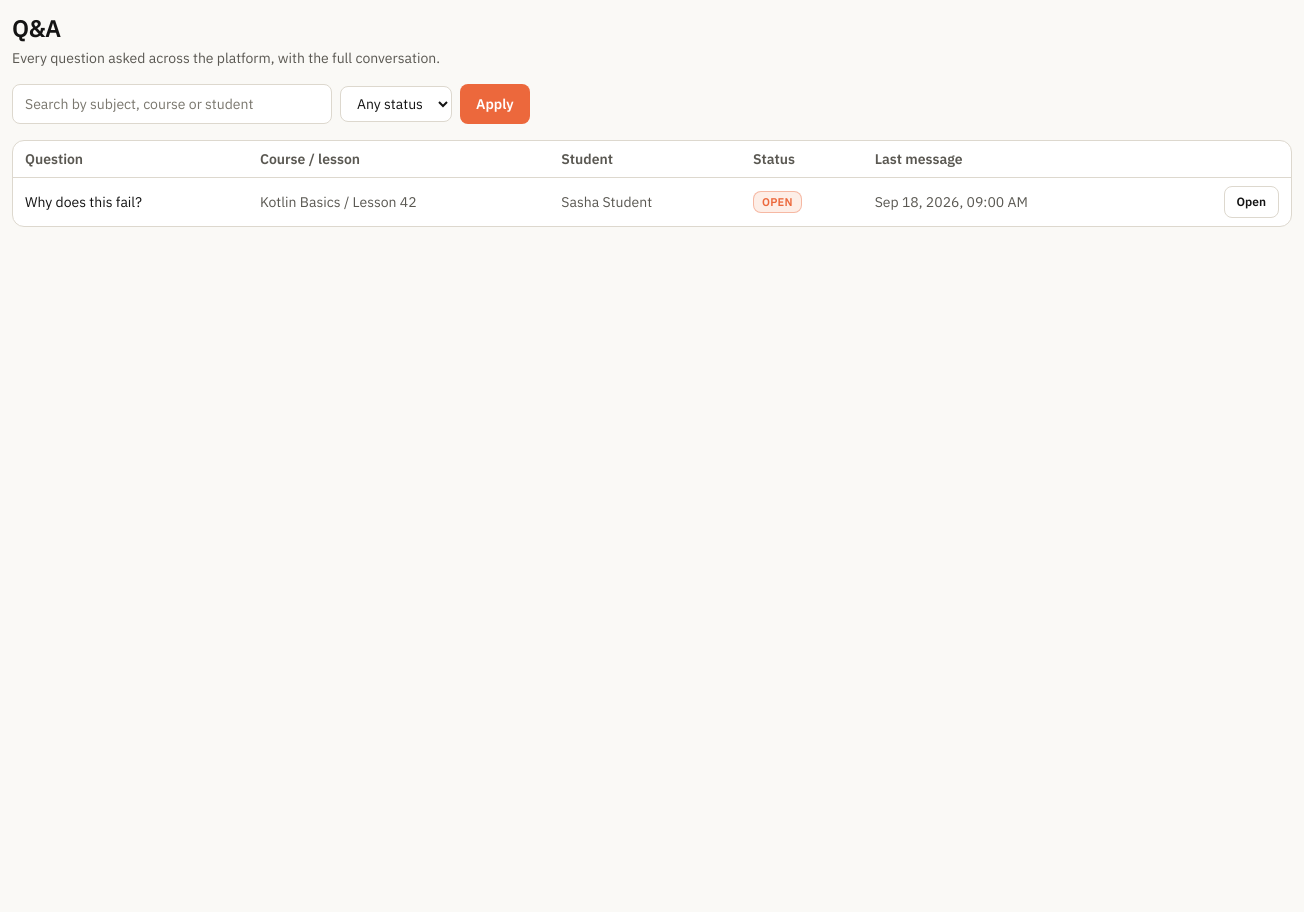
Test: AdminQuestionsView › opens a thread and replies to it as an admin
Click the button "Open": point(1251, 202) [1224,186,1279,218]
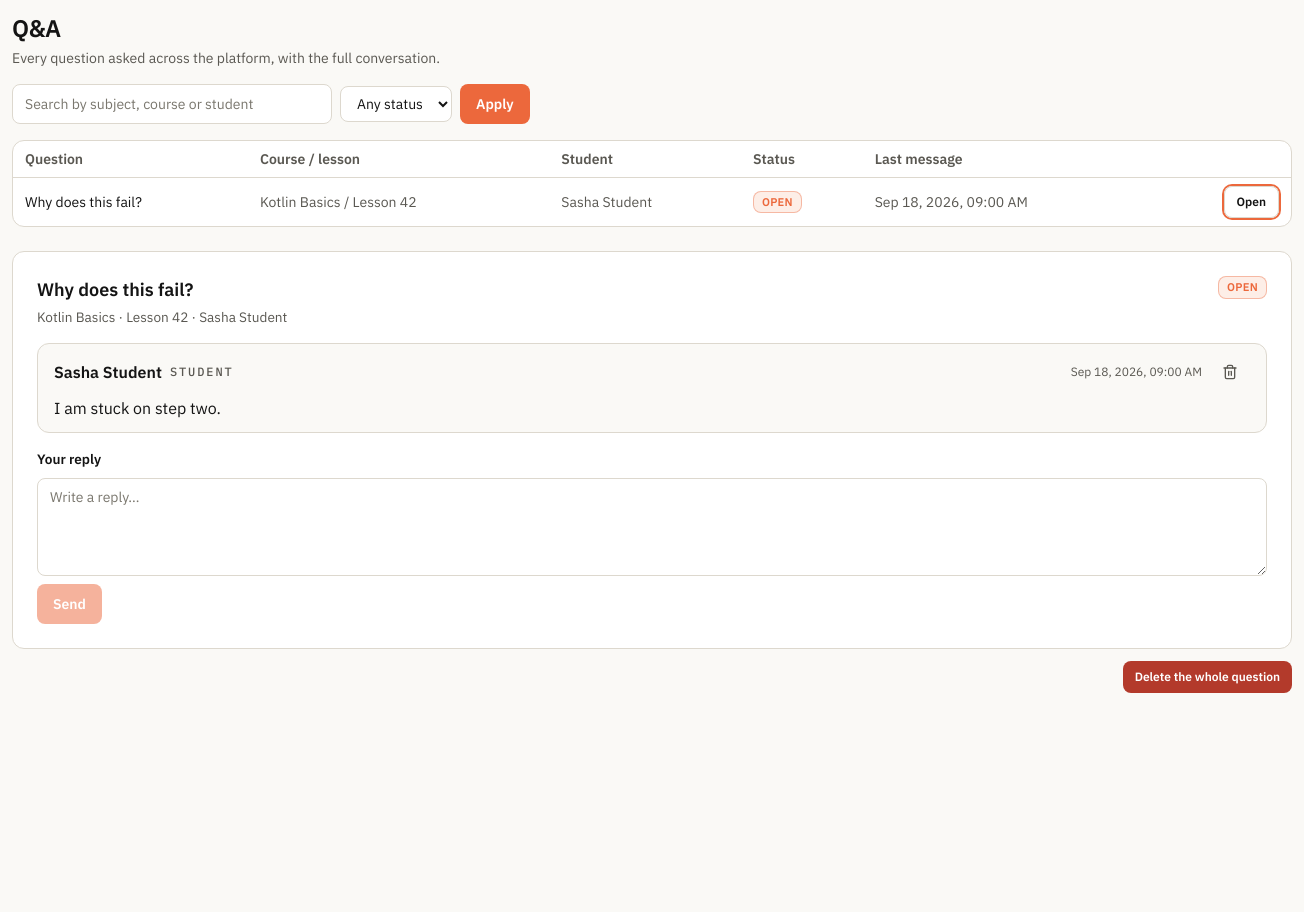
In the text box labelled "Your reply": point(652, 527) [37,478,1267,576], type "Handled by support."
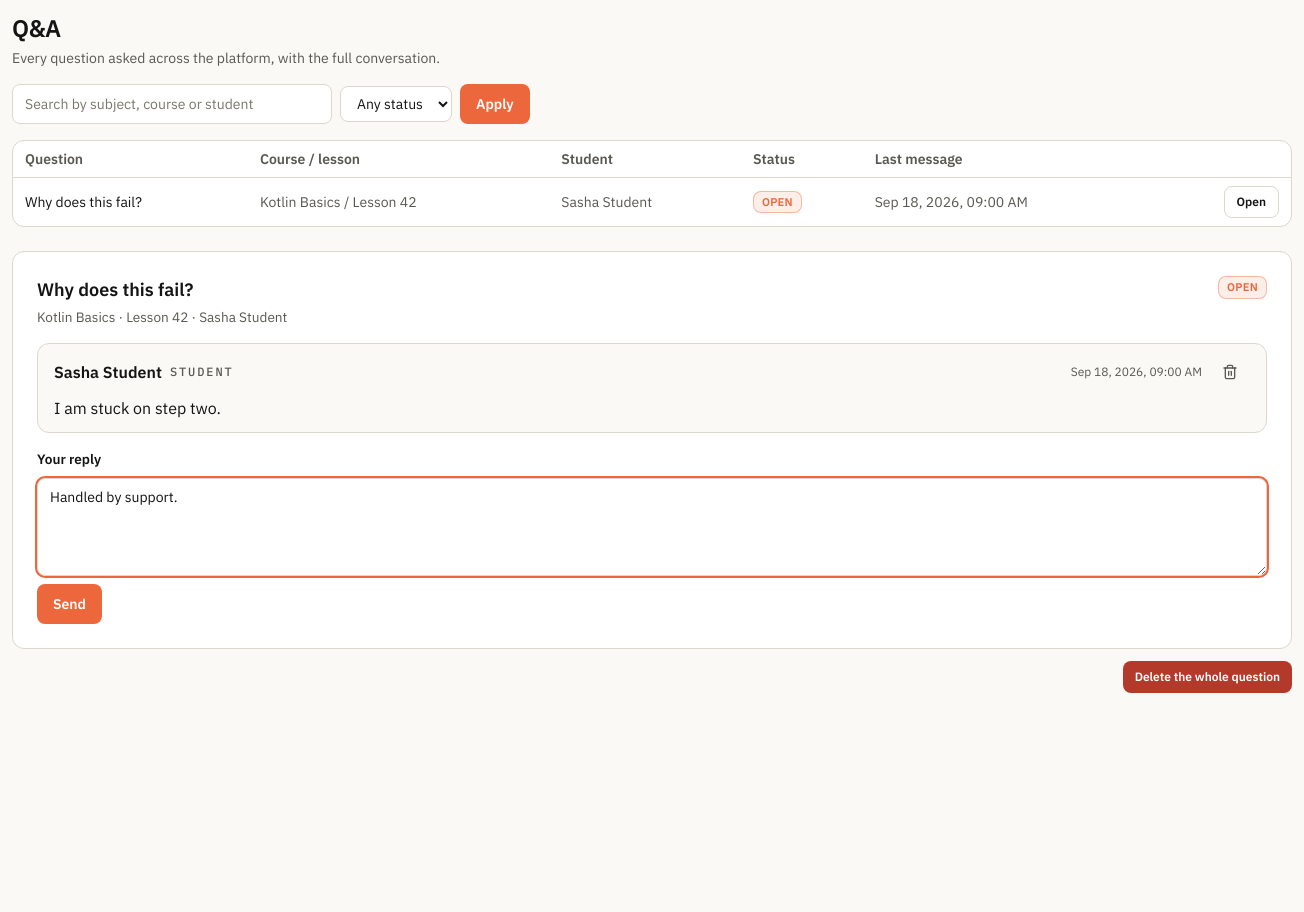
Click the button "Send": point(70, 604) [37,584,102,624]
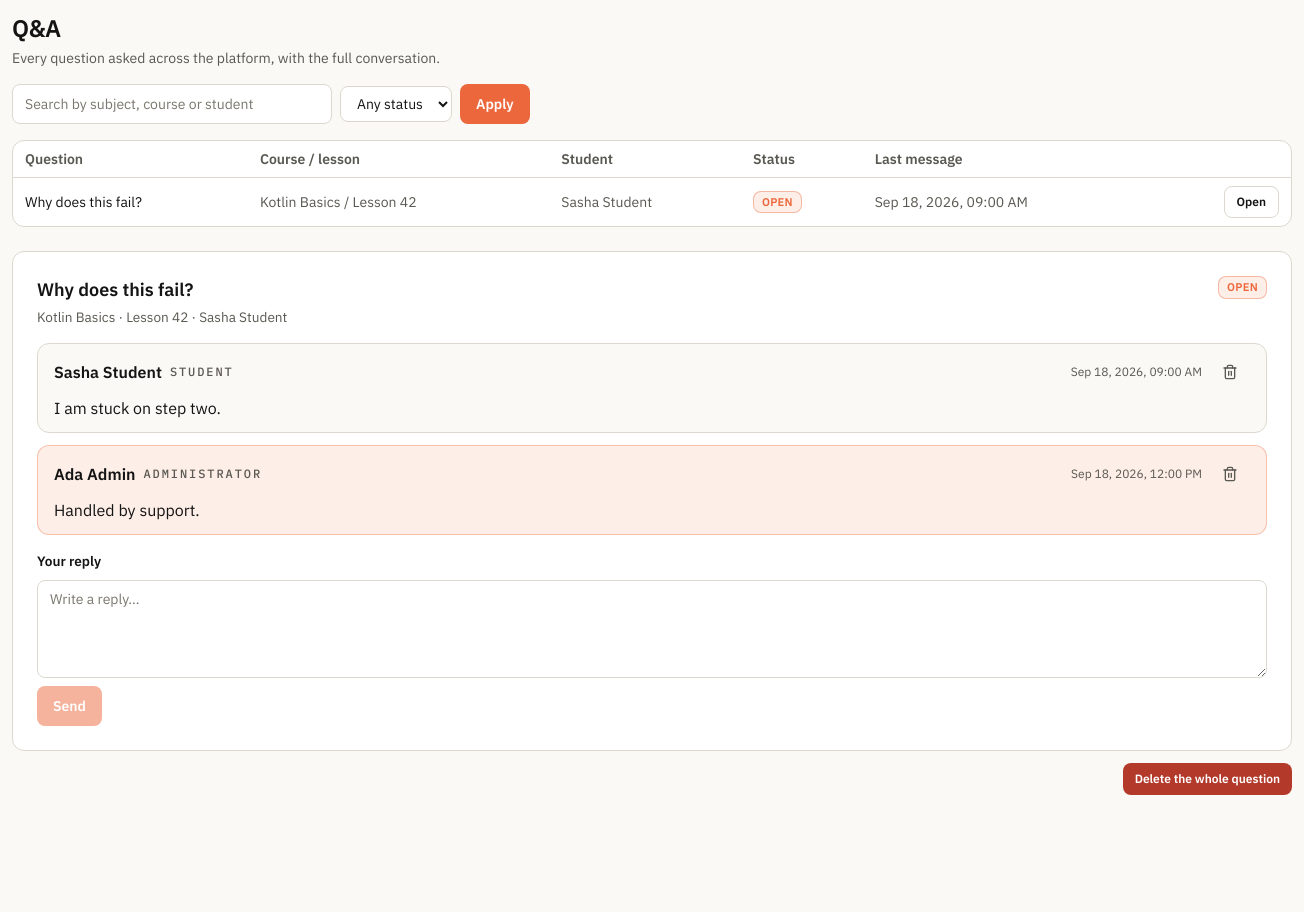
Now the text "Ada Admin" is shown, box [54,462,136,486]
